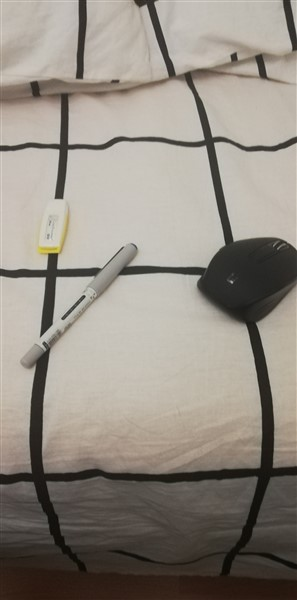flash disk: (36, 191, 81, 259)
mouse: (199, 228, 297, 327)
pilot kalem: (13, 237, 146, 377)
